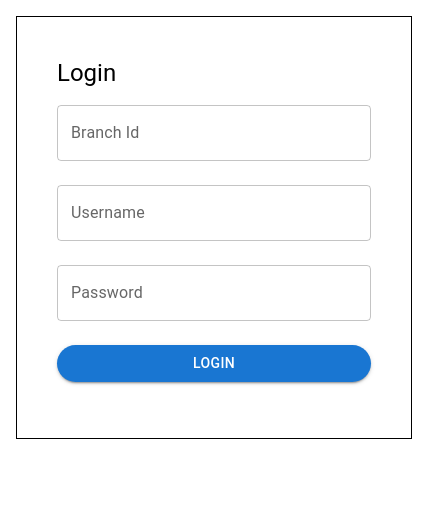
Scenario: LoginComponent › should render "Error: Username is incorrect"
Type "10003" into the field labelled "Branch Id" at (214, 133), box left=57, top=105, right=371, bottom=161
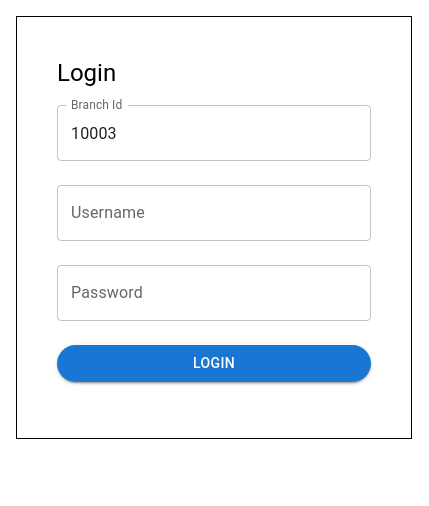
Type "test" into the password field labelled "Password" at (214, 293), box left=57, top=265, right=371, bottom=321
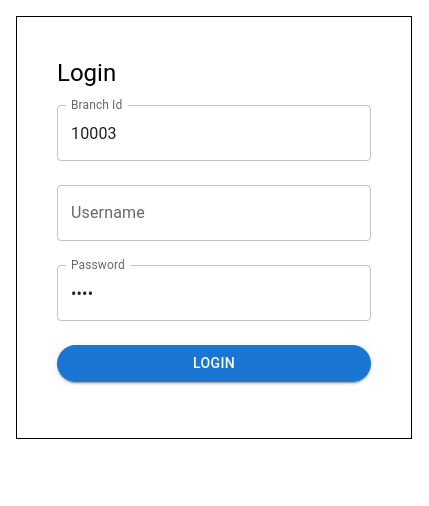
Type "test" into the field labelled "Username" at (214, 213), box left=57, top=185, right=371, bottom=241
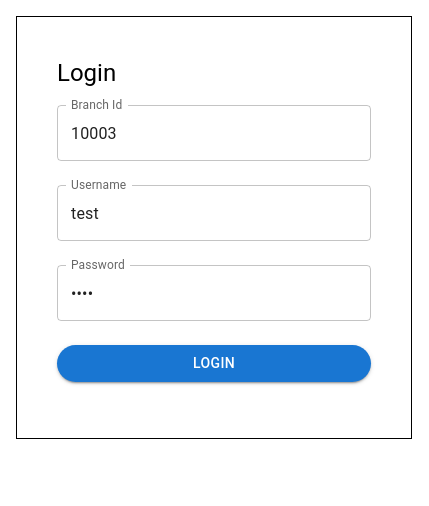
Click the button "Login" at (214, 363), box left=57, top=345, right=371, bottom=382
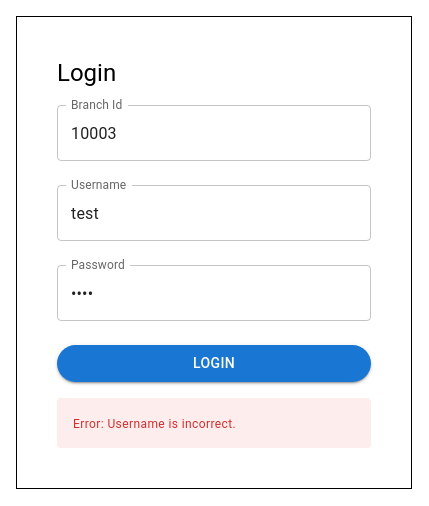
Check: the text "Error: Username is incorrect." is shown, box left=73, top=414, right=236, bottom=434
